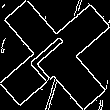L_NE: (26, 27, 84, 83)
